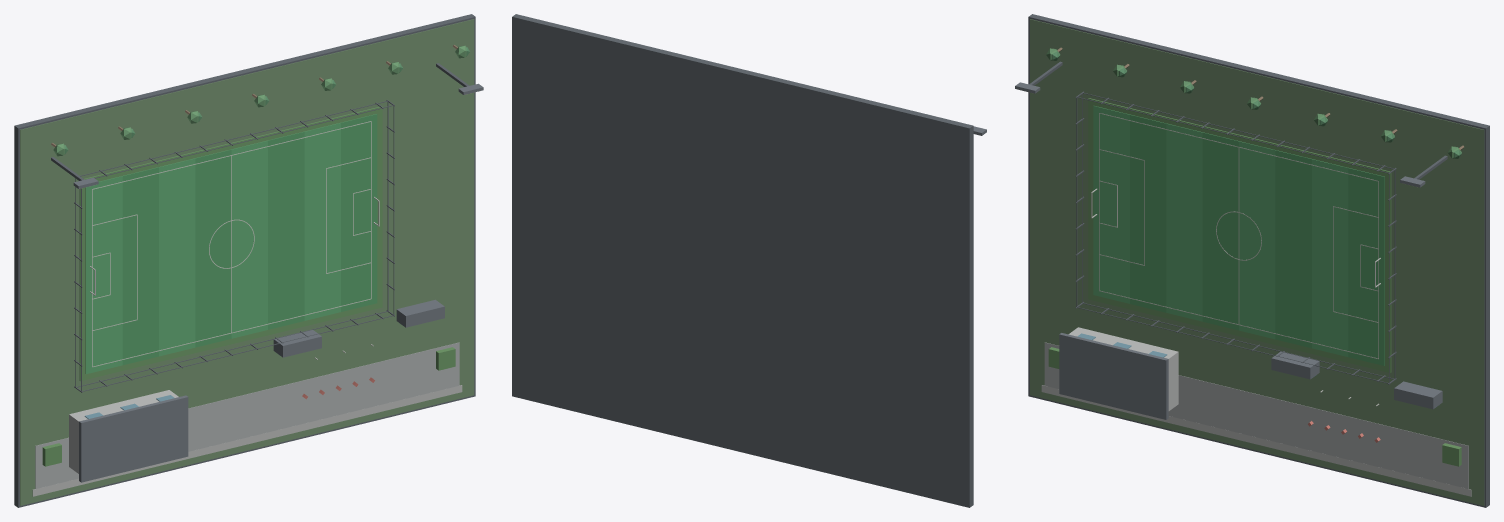
Rendered from training_ground_level_1.glb.
The picture shows the model from 3 angles, left to right: view 1: azimuth 30°, elevation 25°; view 2: azimuth 150°, elevation 25°; view 3: azimuth 330°, elevation 25°; orthographic projection.
Visible parts, largest first — view 1: base, grass3, grass2, paving, dark, roof, hedge, concrete, lines, tree; view 2: dark; view 3: base, grass3, grass2, paving, dark, roof, hedge, concrete, lines, tree.
Part boxes in pixels (x1,y1,x2,y2): base: [20, 19, 474, 505]; grass3: [122, 114, 377, 365]; grass2: [86, 123, 340, 374]; paving: [35, 342, 459, 488]; dark: [14, 14, 475, 507]; roof: [73, 83, 483, 482]; hedge: [42, 106, 455, 466]; concrete: [32, 385, 462, 496]; lines: [92, 121, 371, 367]; tree: [53, 45, 466, 156]; dark: [512, 14, 973, 507]; base: [1030, 19, 1484, 505]; grass3: [1130, 115, 1384, 365]; grass2: [1093, 106, 1348, 356]; paving: [1044, 342, 1468, 488]; dark: [1028, 14, 1489, 507]; roof: [1015, 82, 1442, 419]; hedge: [1048, 98, 1461, 466]; concrete: [1041, 327, 1471, 496]; lines: [1099, 113, 1378, 359]; tree: [1046, 48, 1461, 158].
Size of the model in its own units: 82 by 65 by 12.62.
